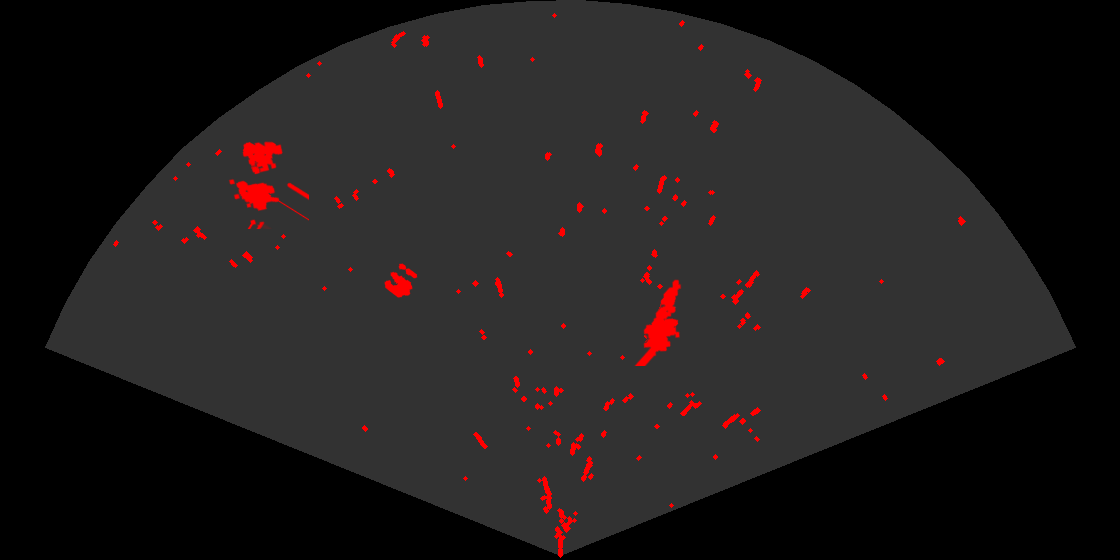ball: (383, 262, 419, 299)
cage: (227, 140, 309, 229)
frogman: (633, 278, 683, 366)
